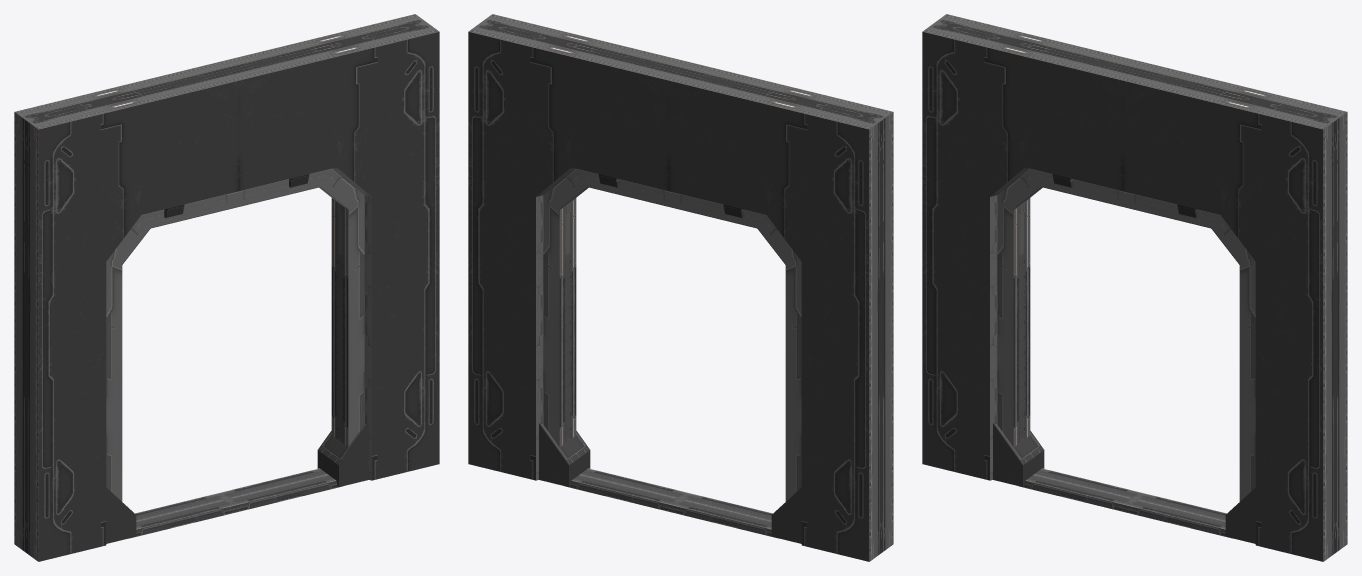
Rendered from Door_Frame_Square.gltf.
3 renders of one model, left to right at view 1: azimuth 30°, elevation 25°; view 2: azimuth 150°, elevation 25°; view 3: azimuth 330°, elevation 25°, orthographic.
Visible parts, largest first — view 1: Door_Frame_Square; view 2: Door_Frame_Square; view 3: Door_Frame_Square.
Boxes of the visible parts, x1=… form: Door_Frame_Square: x1=14, y1=14, x2=439, y2=561; Door_Frame_Square: x1=468, y1=14, x2=893, y2=561; Door_Frame_Square: x1=922, y1=14, x2=1347, y2=561.
Size of the model in its own units: 4.85 by 5.01 by 0.5068.
1 material, 1 textured.
